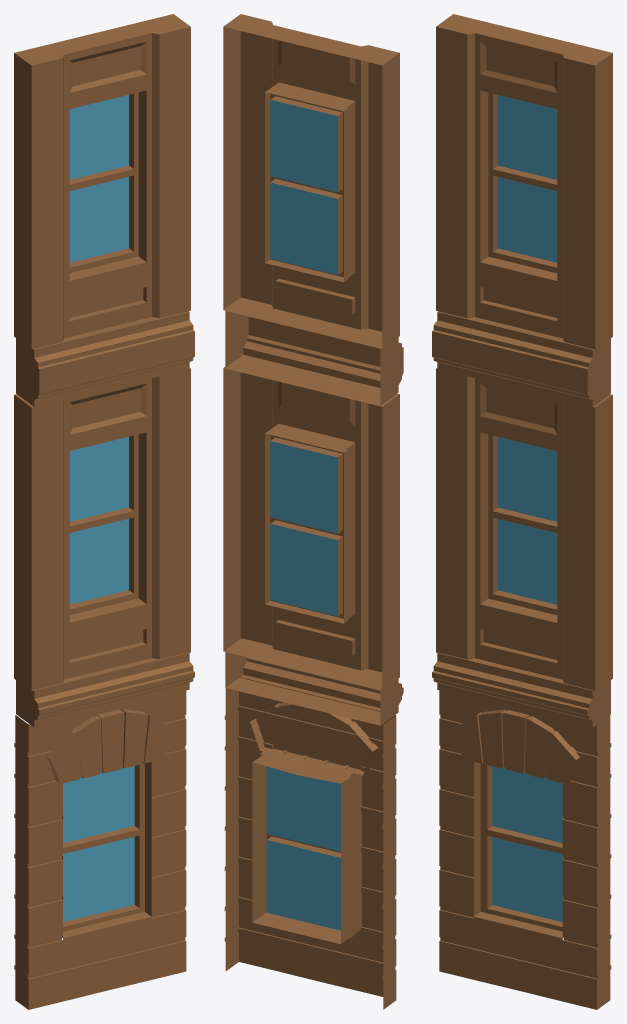
The model's file is F_Large_2.fbx.
3 views of the same model, side by side, from view 1: azimuth 30°, elevation 25°; view 2: azimuth 150°, elevation 25°; view 3: azimuth 330°, elevation 25° (orthographic).
Visible parts, largest first — view 1: Box015; view 2: Box015; view 3: Box015.
Boxes of the visible parts, <box> form: Box015: <box>14,14,194,1009</box>; Box015: <box>223,14,403,1009</box>; Box015: <box>432,14,612,1009</box>.
Size of the model in its own units: 3.23 by 18.34 by 1.07.
